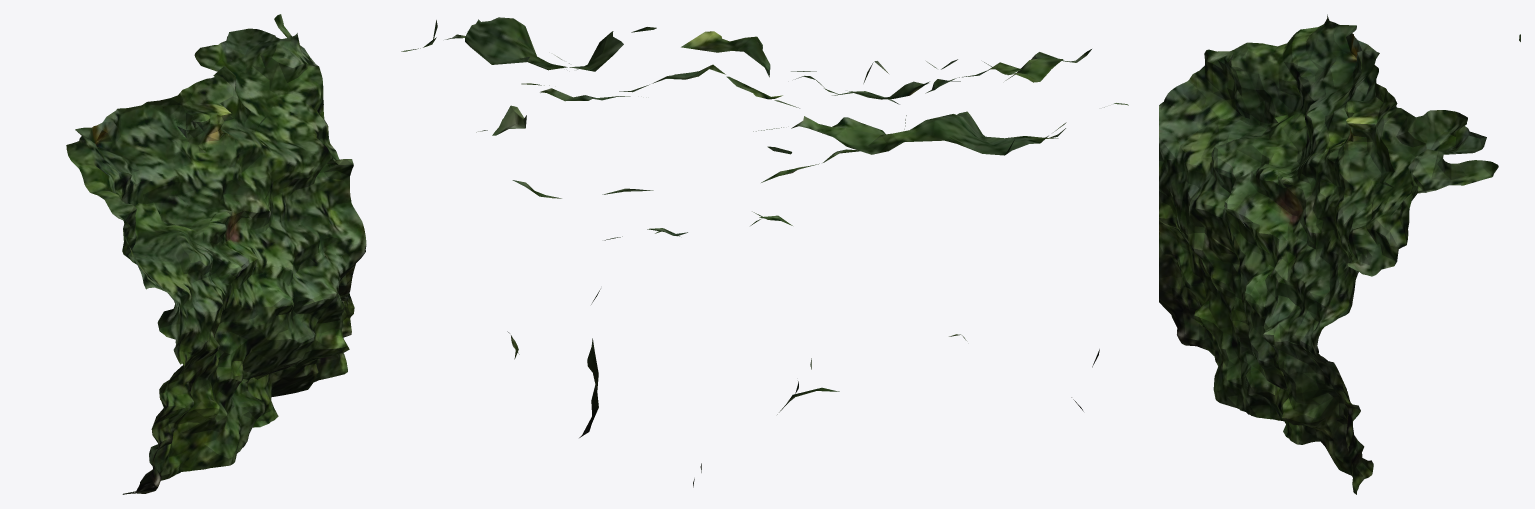
3 renders of one model, left to right at view 1: azimuth 30°, elevation 25°; view 2: azimuth 150°, elevation 25°; view 3: azimuth 270°, elevation 25°, orthographic. The views are drawn at different scales.
Size of the model in its own units: 0.8374 by 0.8374 by 0.8374.
4 materials, 4 textured.
